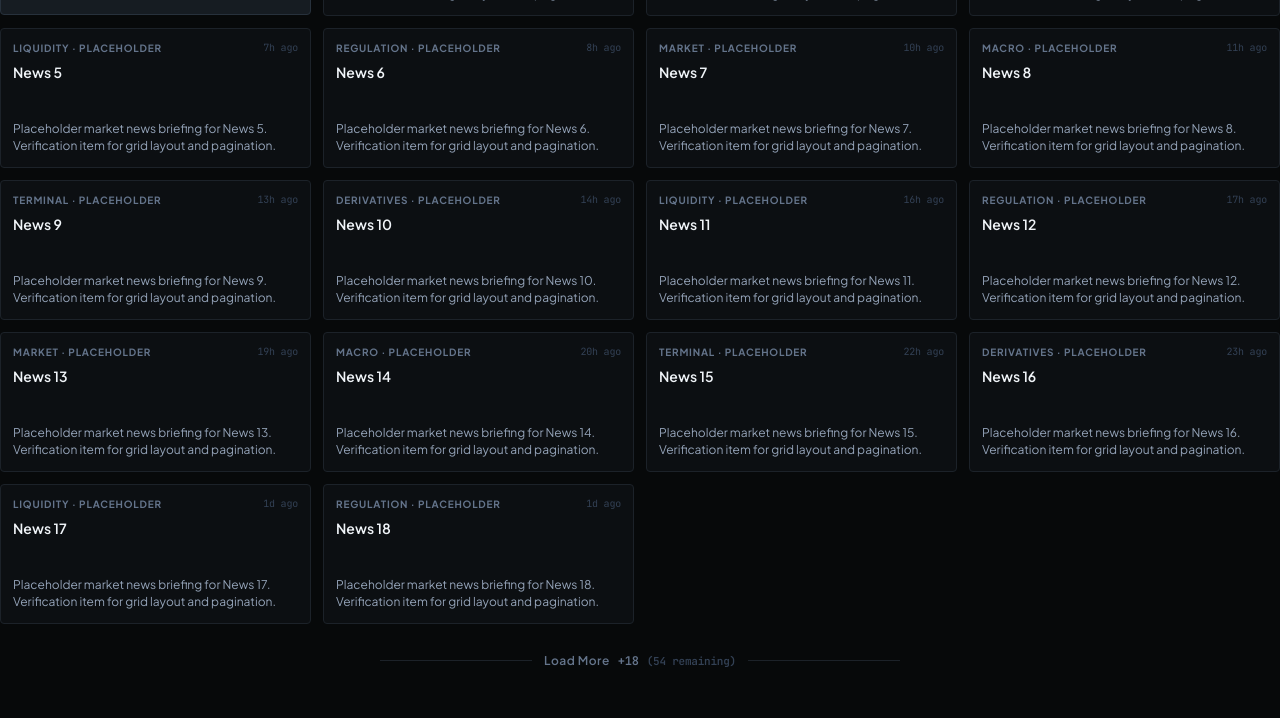
Scenario: Trading Terminal Feature Expansion Tests › News Section & Grid › News Load More increases by 18
(page scrolled)
Click the button with class "btn-news-load-more": coordinates (640, 661) [380, 644, 900, 678]
(page scrolled)
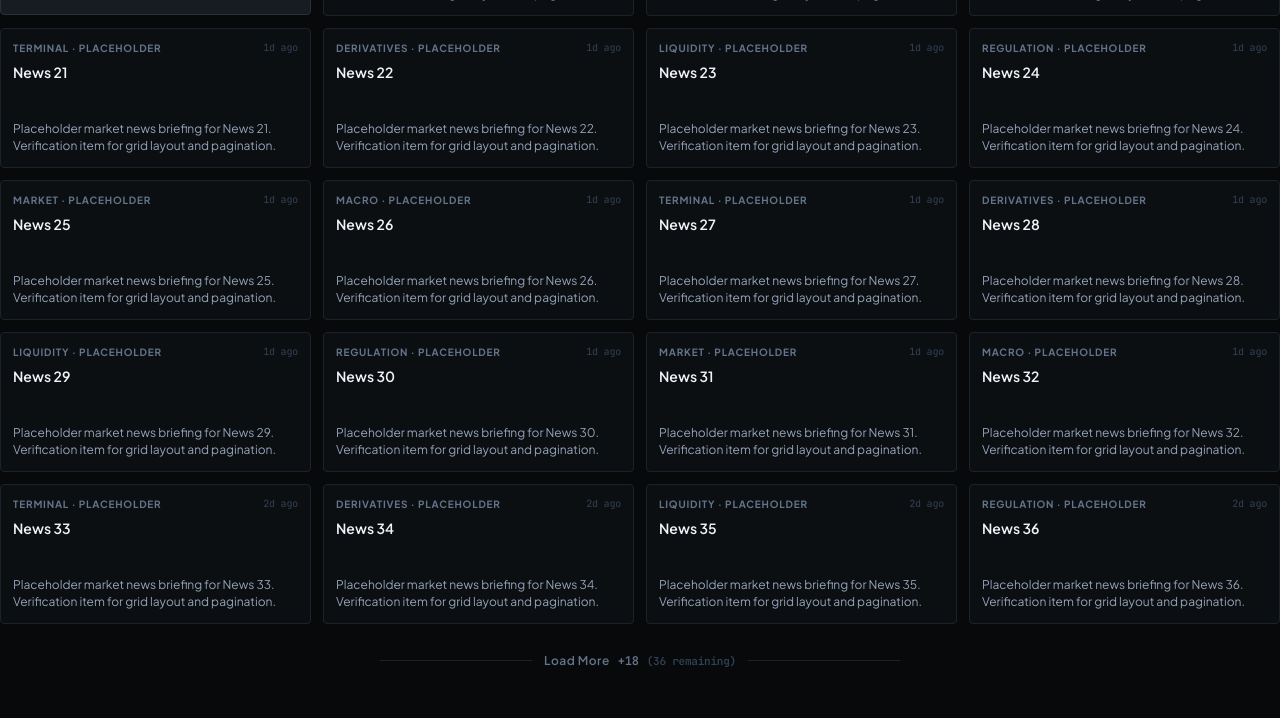
Click the button with class "btn-news-load-more": coordinates (640, 661) [380, 644, 900, 678]
(page scrolled)
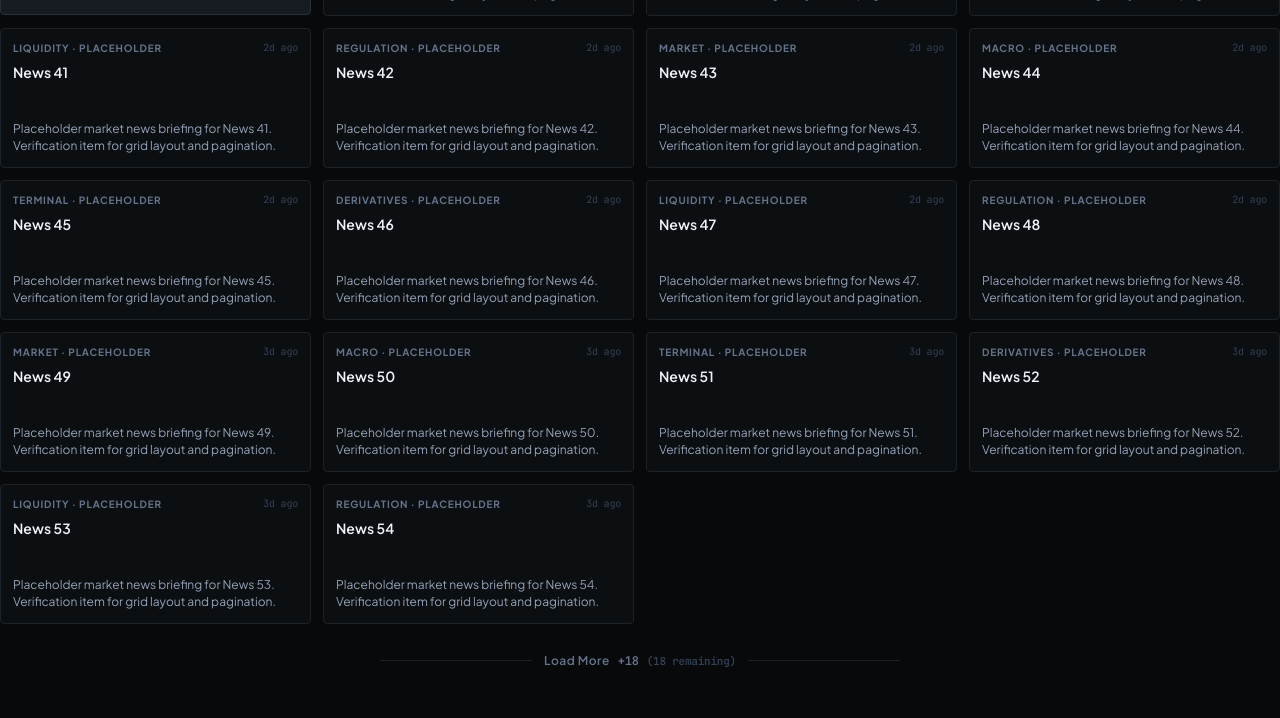
Click the button with class "btn-news-load-more": coordinates (640, 661) [380, 644, 900, 678]
(page scrolled)
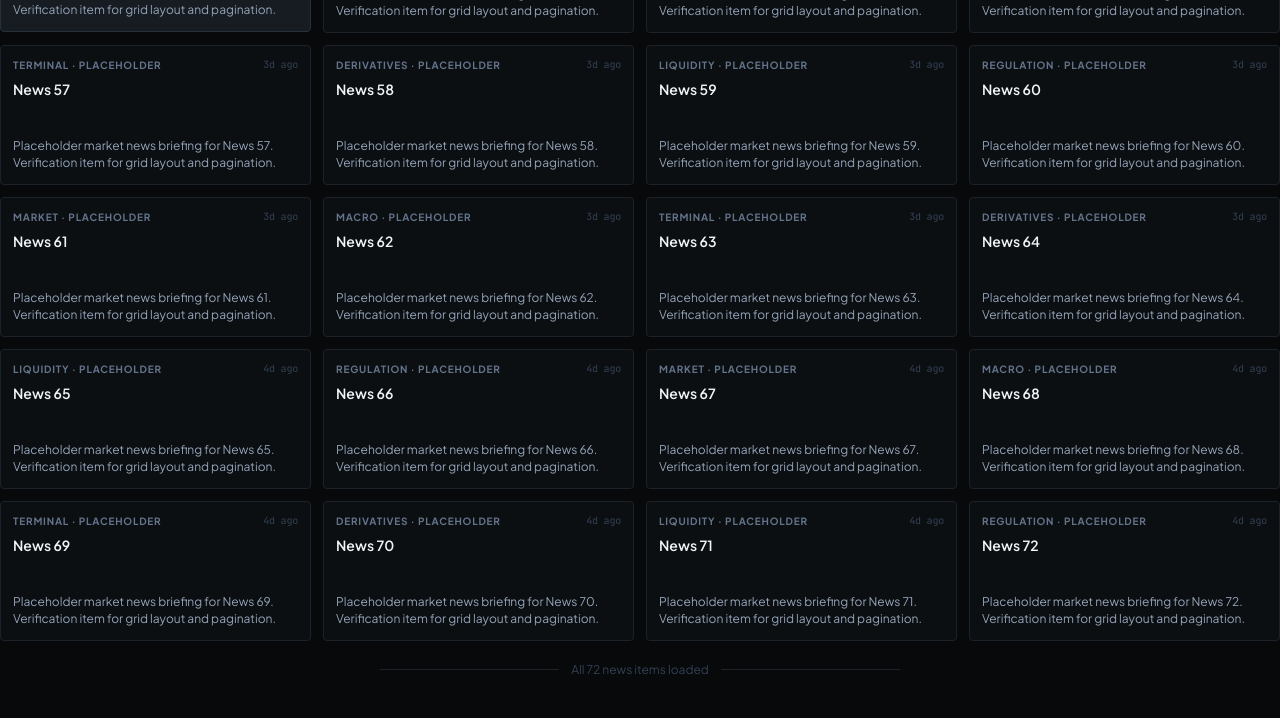
Result: the element with class "news-pagination--done" is shown at [571, 662, 709, 676]
